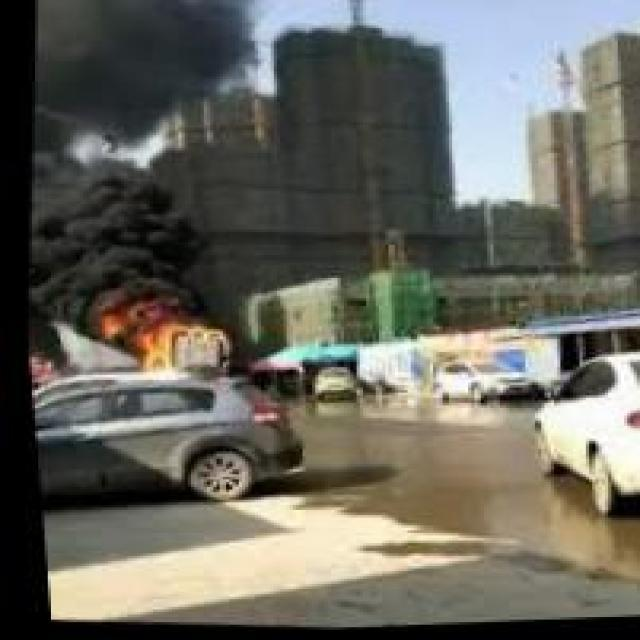Fire: (54, 286, 239, 410)
Smoke: (3, 0, 309, 306)
